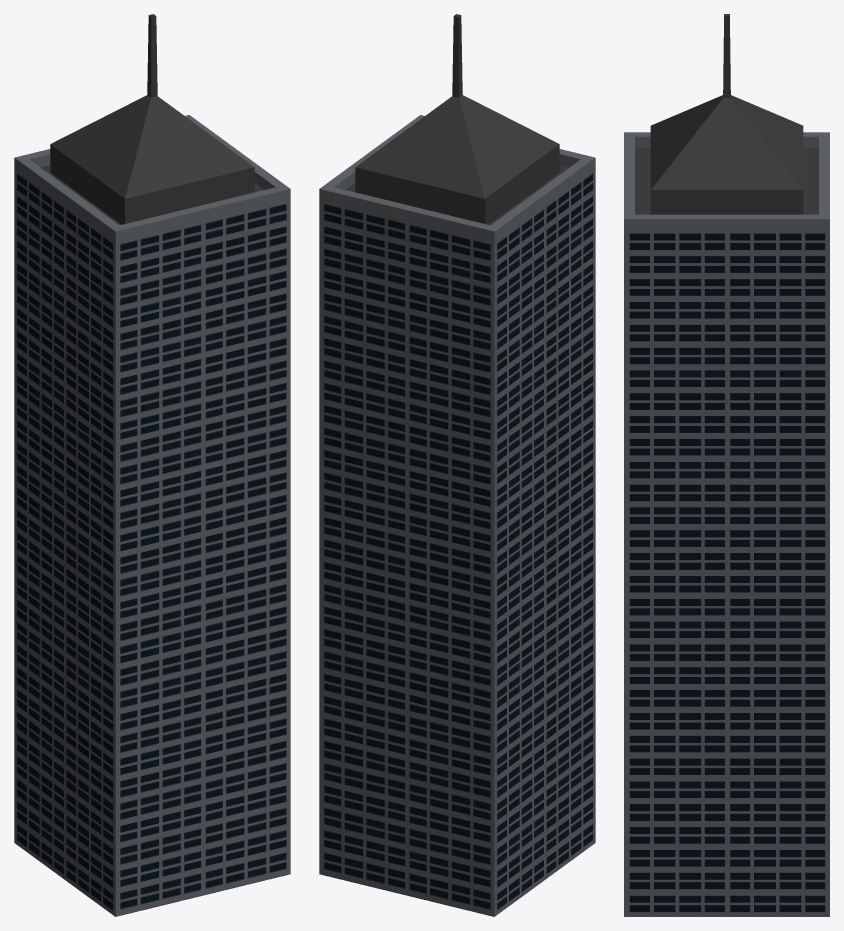
Rendered from SM_Env_Background_Building_05.fbx.
3 views of the same model, side by side, from view 1: azimuth 30°, elevation 25°; view 2: azimuth 150°, elevation 25°; view 3: azimuth 270°, elevation 25° (orthographic).
Visible parts, largest first — view 1: SM_Env_Background_Building_05; view 2: SM_Env_Background_Building_05; view 3: SM_Env_Background_Building_05.
Boxes of the visible parts, x1,y1,x2,y2 form: SM_Env_Background_Building_05: [14, 14, 290, 916]; SM_Env_Background_Building_05: [319, 14, 595, 916]; SM_Env_Background_Building_05: [624, 14, 829, 916].
Size of the model in its own units: 2029 by 9337 by 2029.
